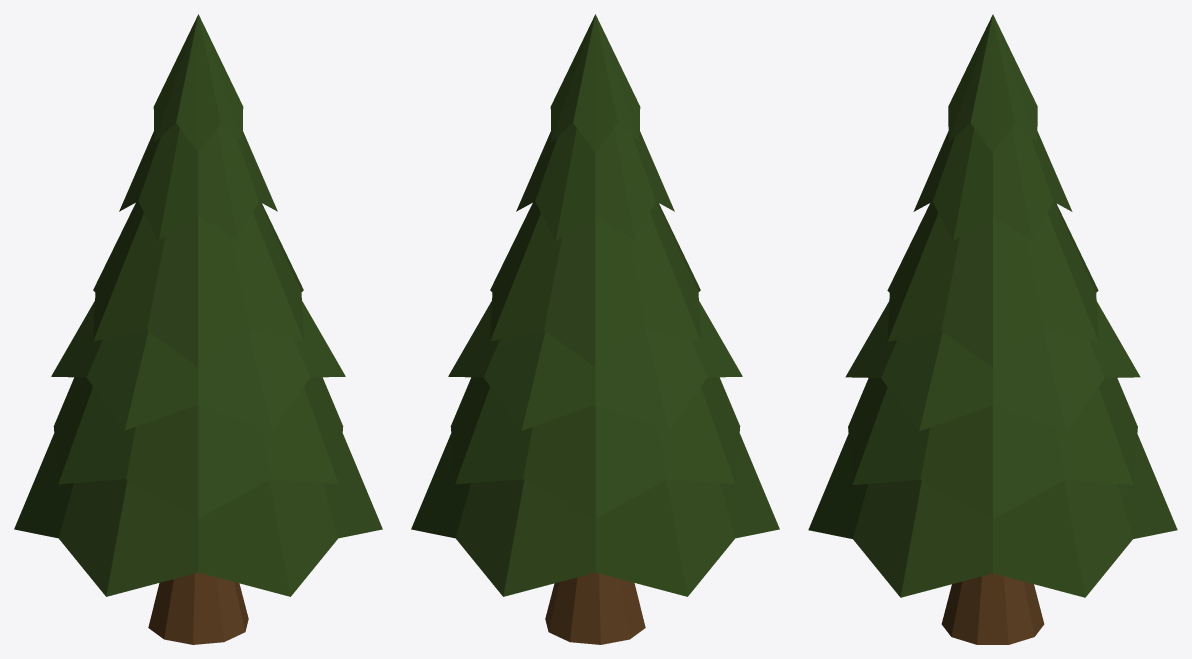
File: tree1.fbx
3 renders of one model, left to right at view 1: azimuth 30°, elevation 25°; view 2: azimuth 150°, elevation 25°; view 3: azimuth 270°, elevation 25°, orthographic.
Parts seen in each view (by area): view 1: Cylinder.002; view 2: Cylinder.002; view 3: Cylinder.002.
Part boxes in pixels (bbox=[...]): Cylinder.002: bbox=[14, 14, 382, 644]; Cylinder.002: bbox=[411, 14, 779, 644]; Cylinder.002: bbox=[808, 14, 1177, 644].
Bounding box in the file's own units: 631 × 1309 × 718.
